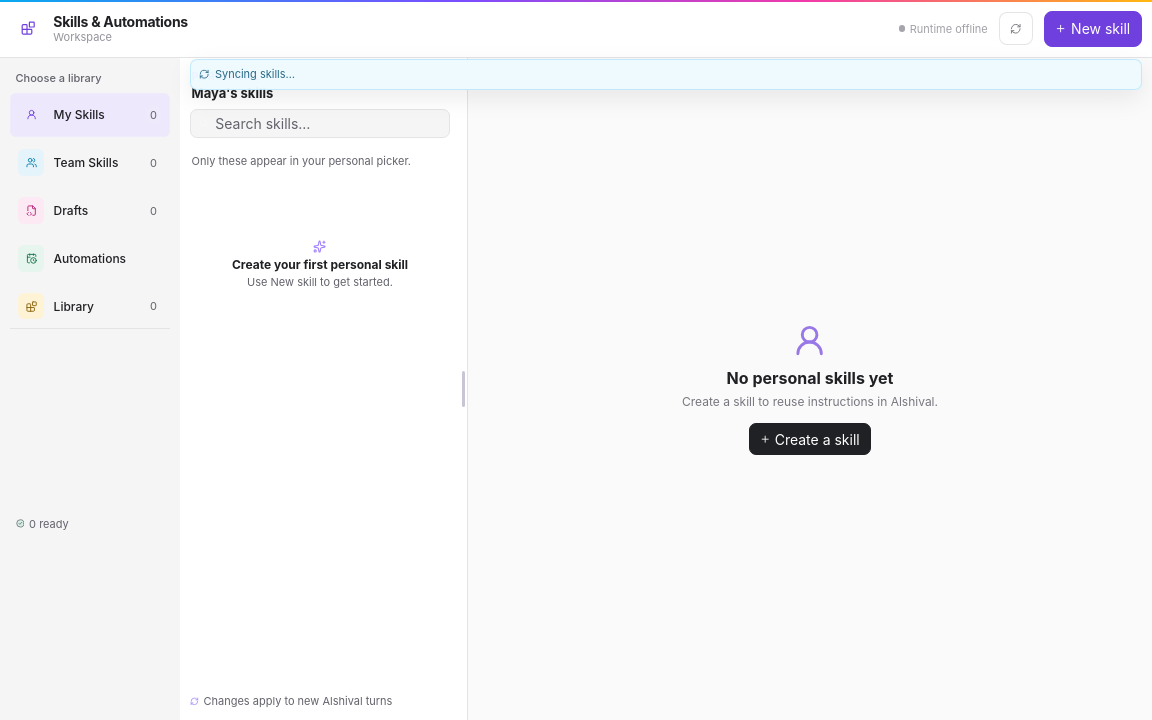
Test case: Skills live app › shows an inline error instead of leaving SKILL.md in a permanent loading state
Click the button "Library 0" at (90,306), box left=10, top=284, right=170, bottom=328
(page scrolled)
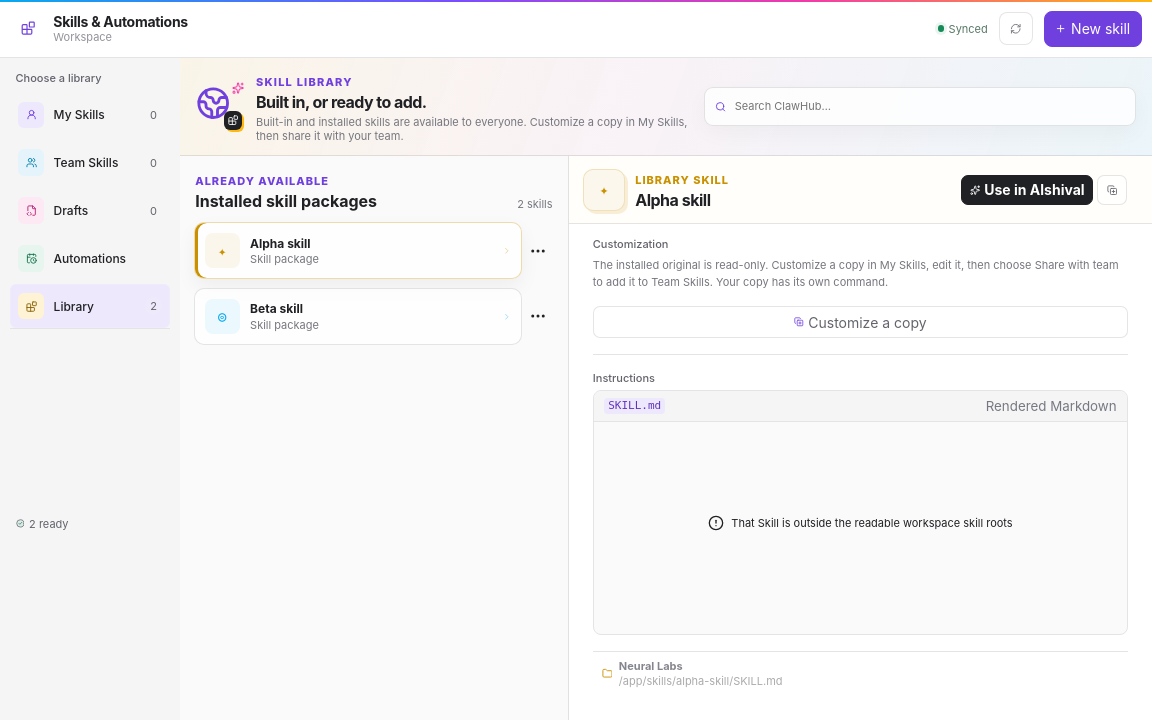
Check: the text "That Skill is outside the readable workspace skill roots" is shown, box left=708, top=511, right=1013, bottom=535
